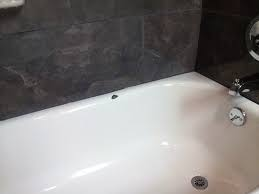bathub: (1, 72, 259, 194)
